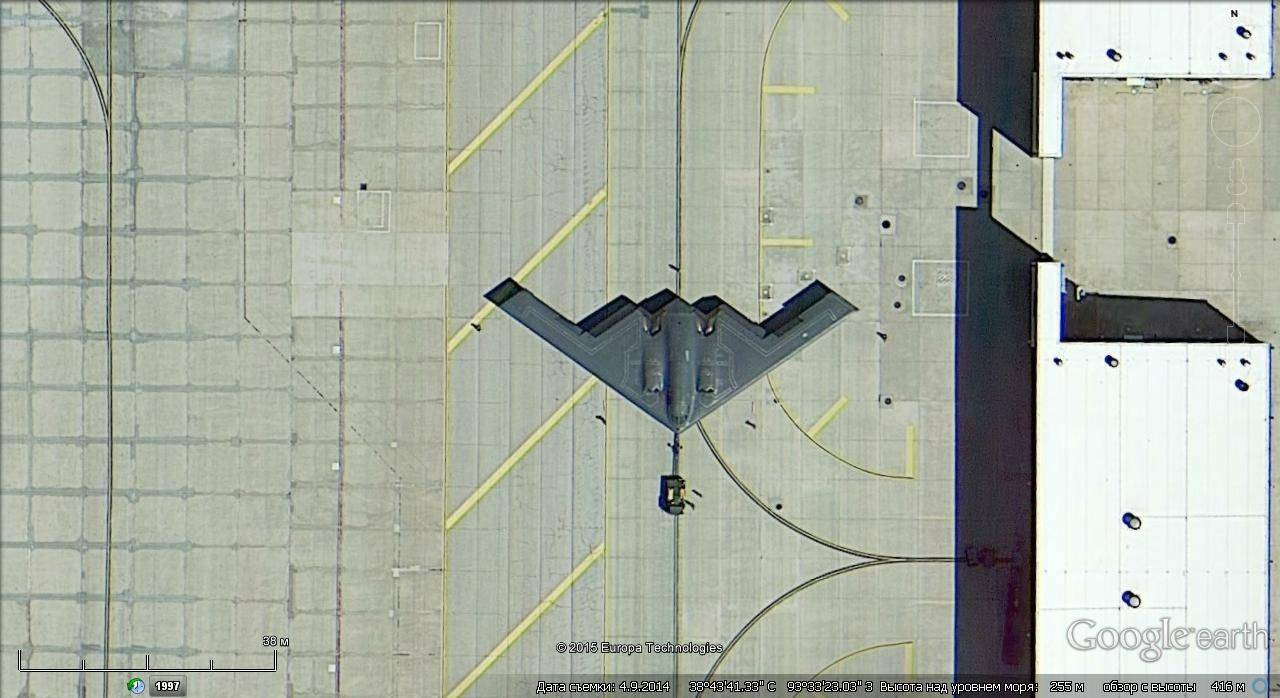B2: (498, 288, 859, 436)
